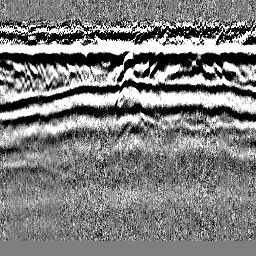cavity: (116, 52, 138, 81)
